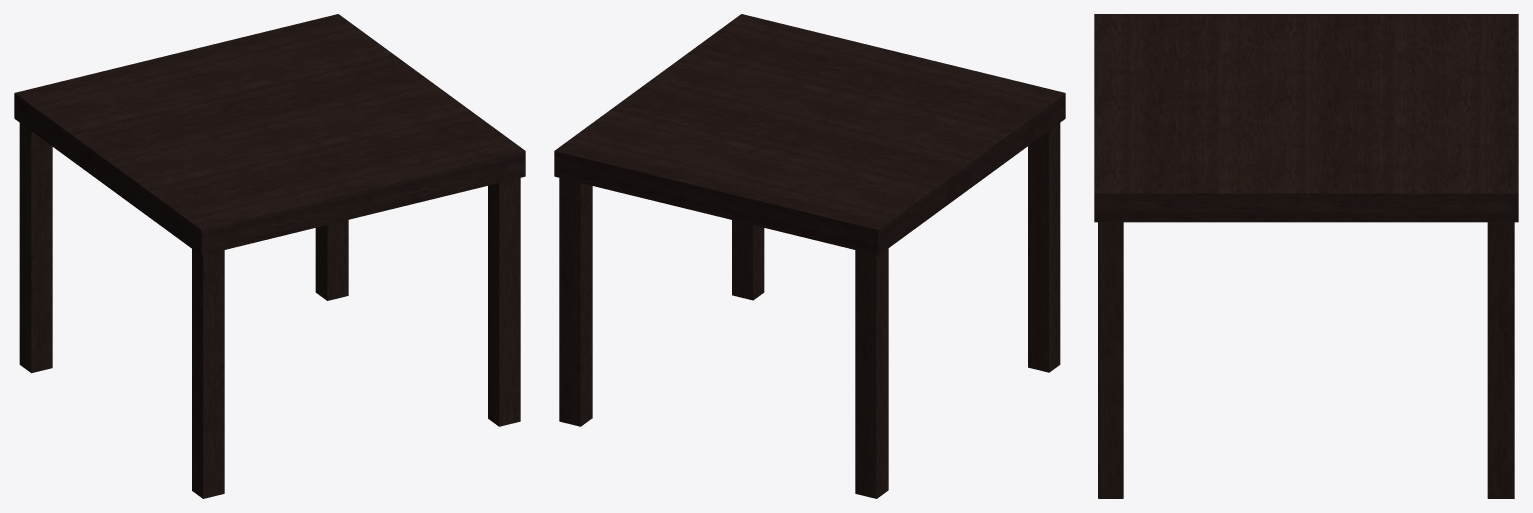
The picture shows the model from 3 angles, left to right: view 1: azimuth 30°, elevation 25°; view 2: azimuth 150°, elevation 25°; view 3: azimuth 270°, elevation 25°; orthographic projection. The views are drawn at different scales.
Parts seen in each view (by area): view 1: wood; view 2: wood; view 3: wood.
Part boxes in pixels (x1,y1,x2,y2): wood: (14, 14, 525, 498); wood: (554, 14, 1065, 498); wood: (1094, 14, 1518, 498).
Size of the model in its own units: 0.6 by 0.48 by 0.6.
Materials: 1 (1 with a texture image).
